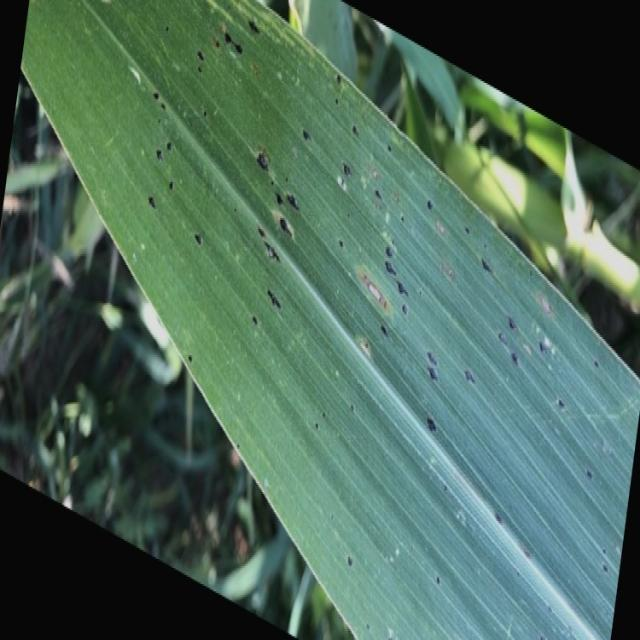Tar_Spot: (341, 130, 420, 342), (232, 116, 288, 344), (472, 240, 534, 398), (133, 79, 176, 244), (422, 322, 466, 470)
